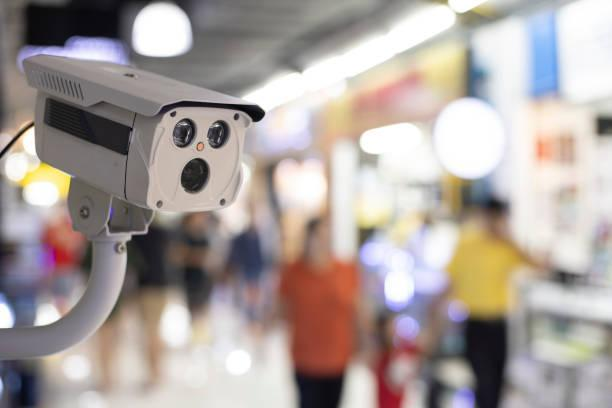camera: (9, 38, 289, 256)
